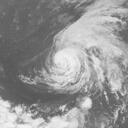cyclone: (42, 10, 119, 95)
